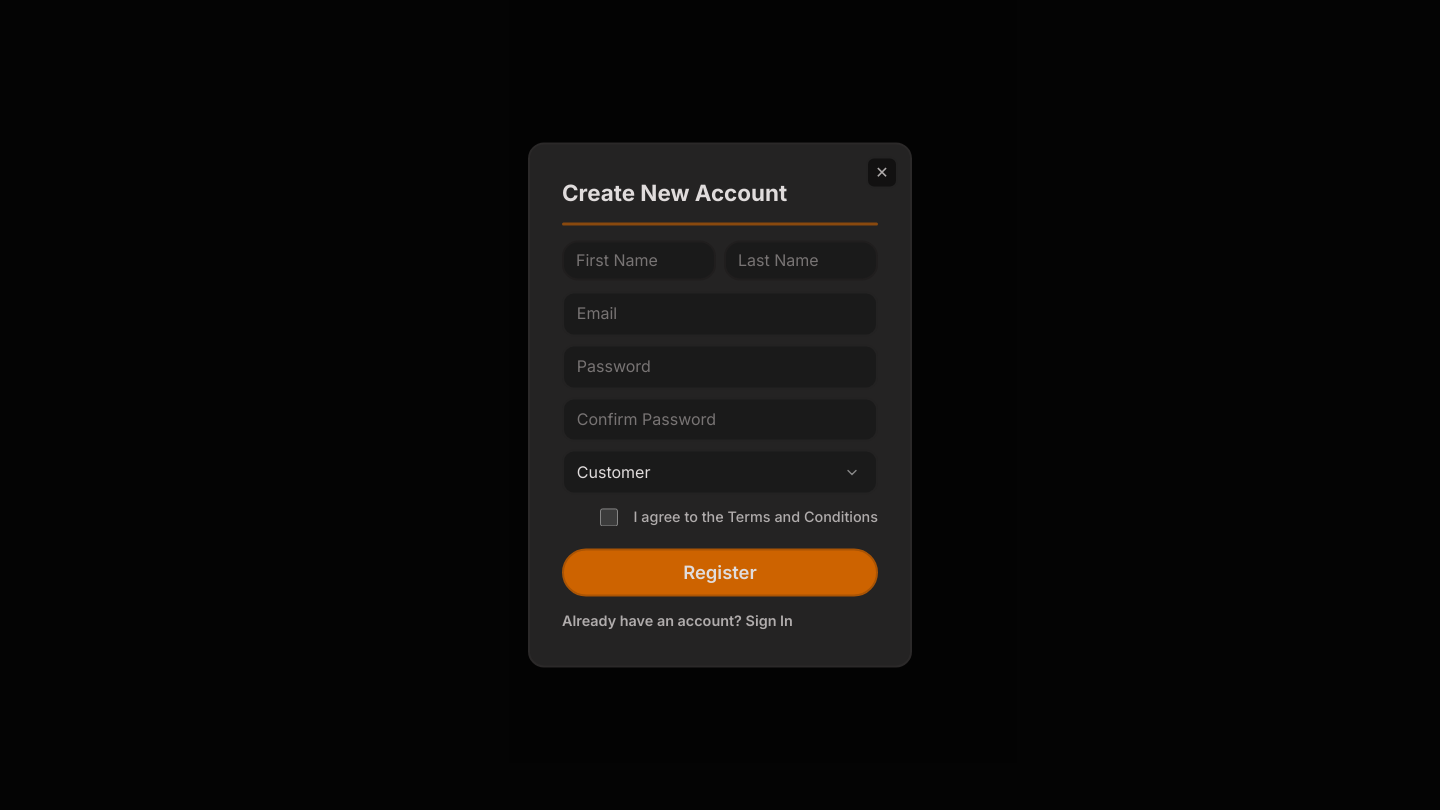
Test: AuthModal › shows error when passwords do not match
Type "John" into the field with placeholder "First Name" at [639, 260], box [562, 240, 716, 280]
Type "Doe" into the field with placeholder "Last Name" at [801, 260], box [724, 240, 878, 280]
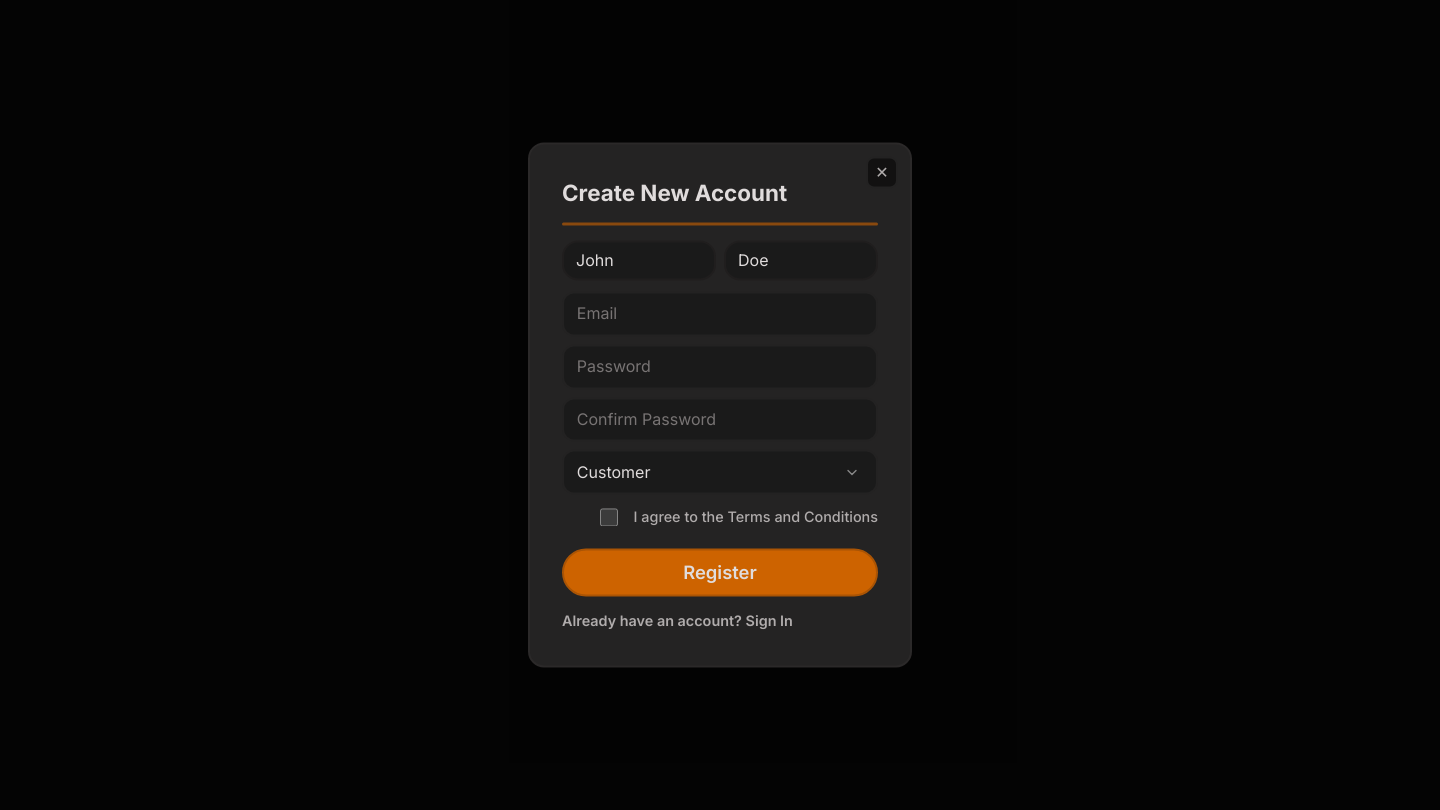
Type "john@test.com" into the field with placeholder "Email" at [720, 314], box [562, 291, 878, 336]
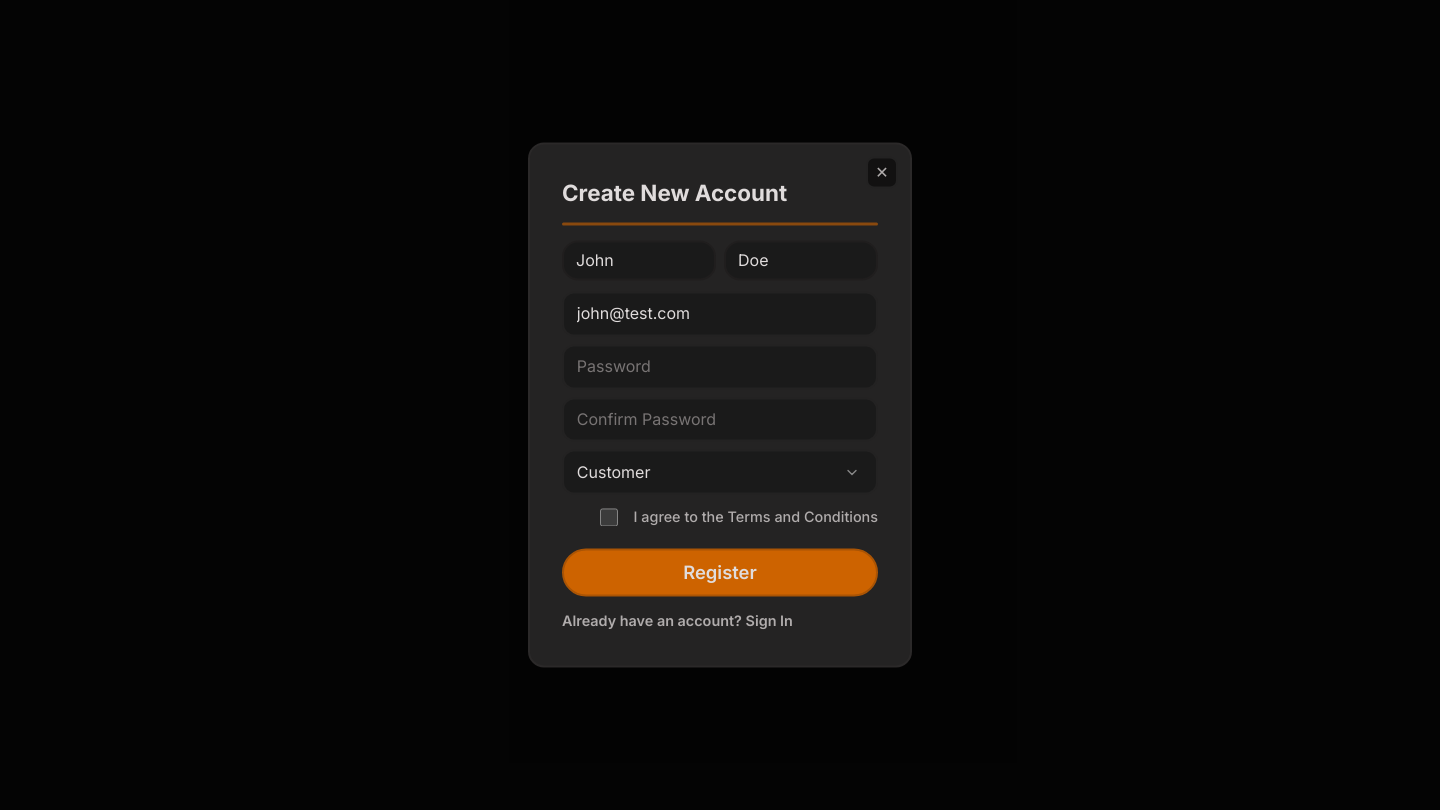
Type "123456" into the password field with placeholder "Password" at [720, 367], box [562, 344, 878, 389]
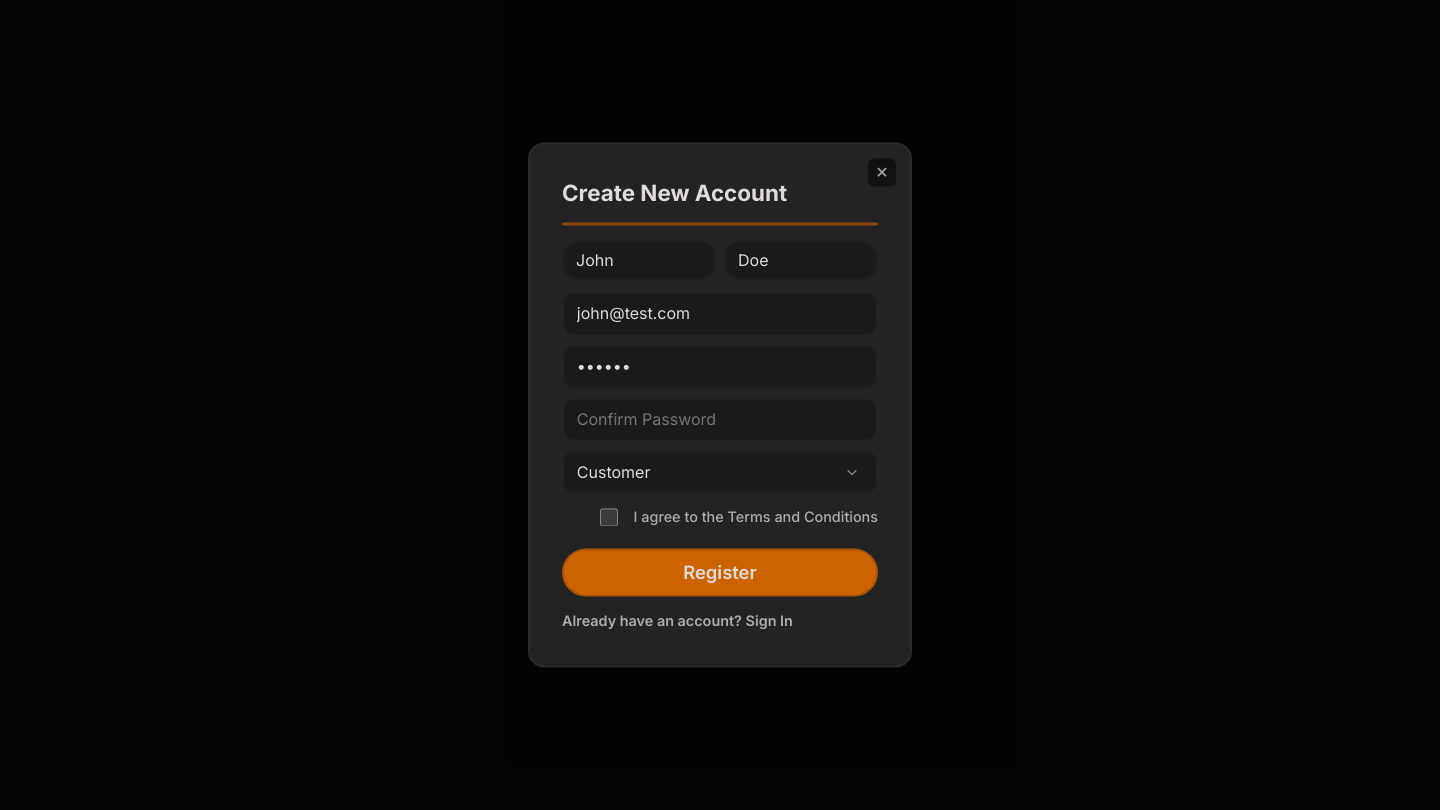
Type "654321" into the password field with placeholder "Confirm Password" at [720, 419], box [562, 397, 878, 442]
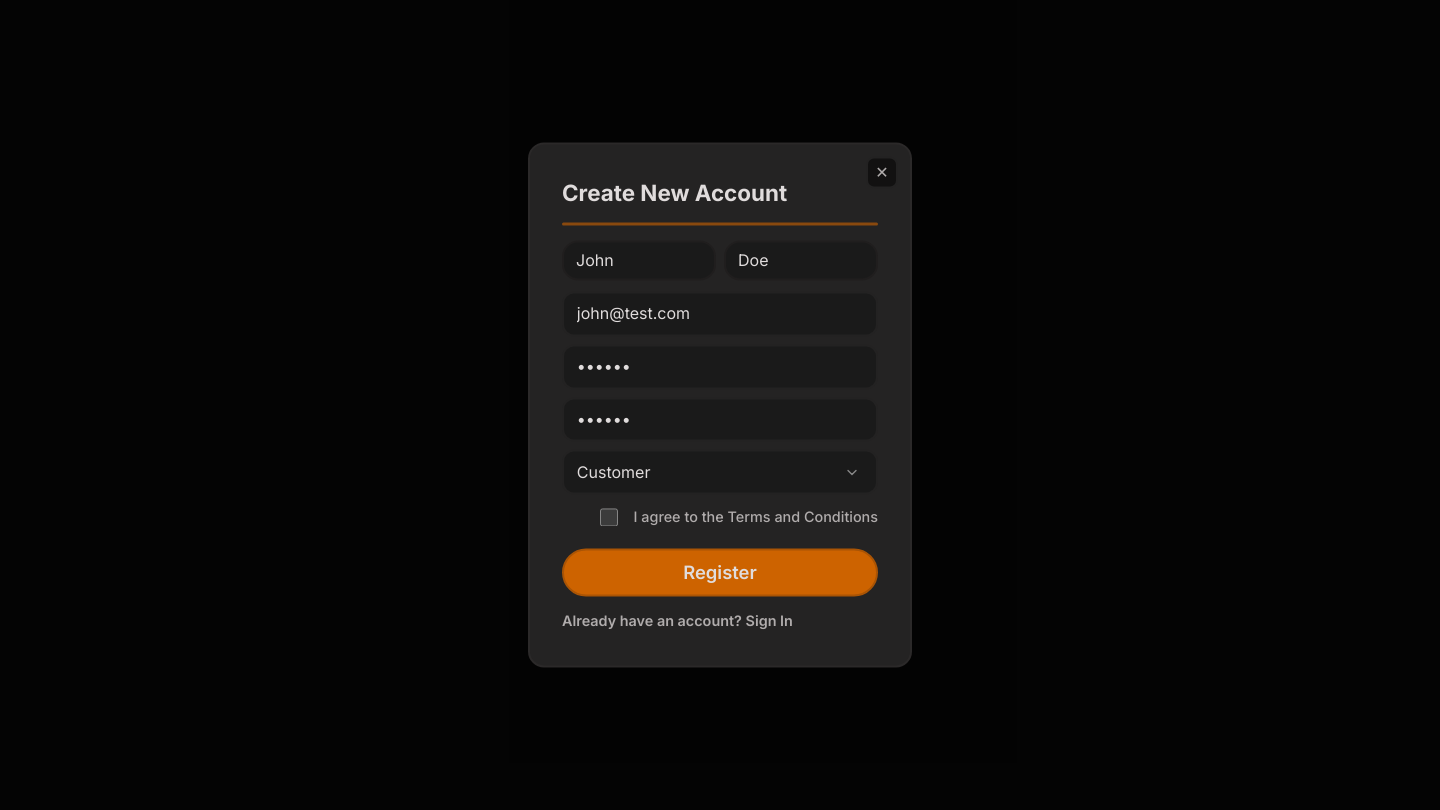
Click the checkbox at [609, 517], box [600, 509, 618, 526]
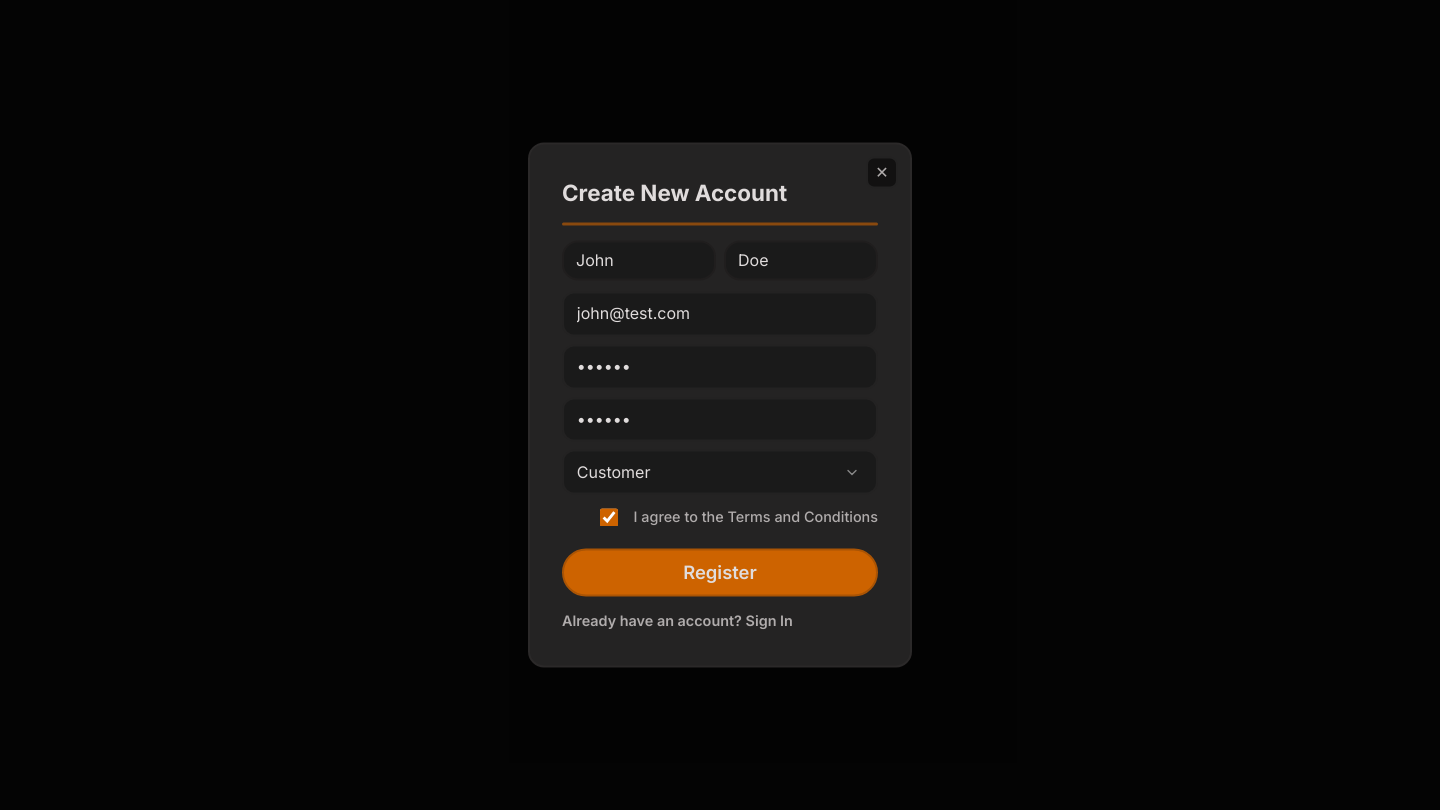
Click the button "Register" at [720, 572], box [562, 548, 878, 597]
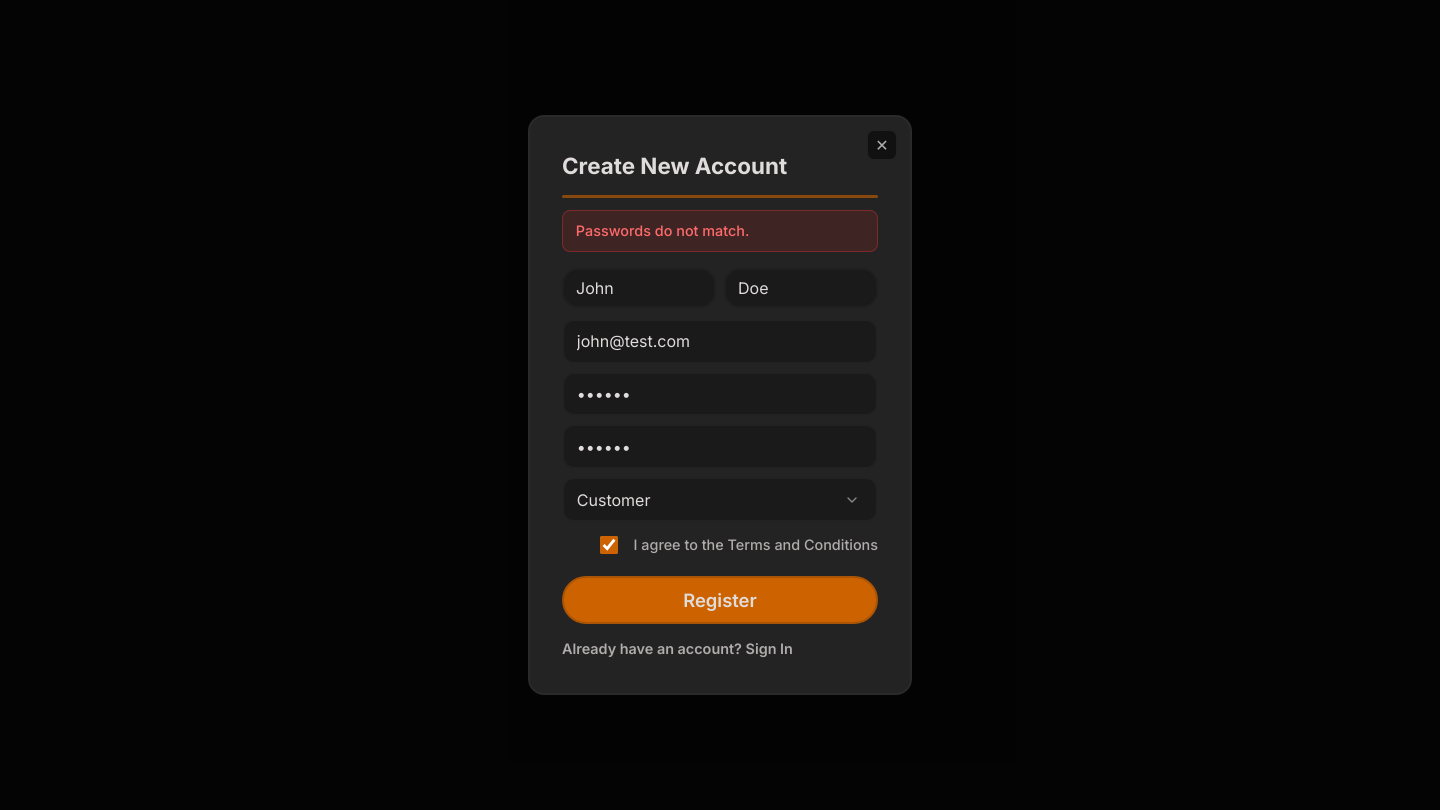
Expected: the text "Passwords do not match." is shown, [562, 210, 878, 252]
